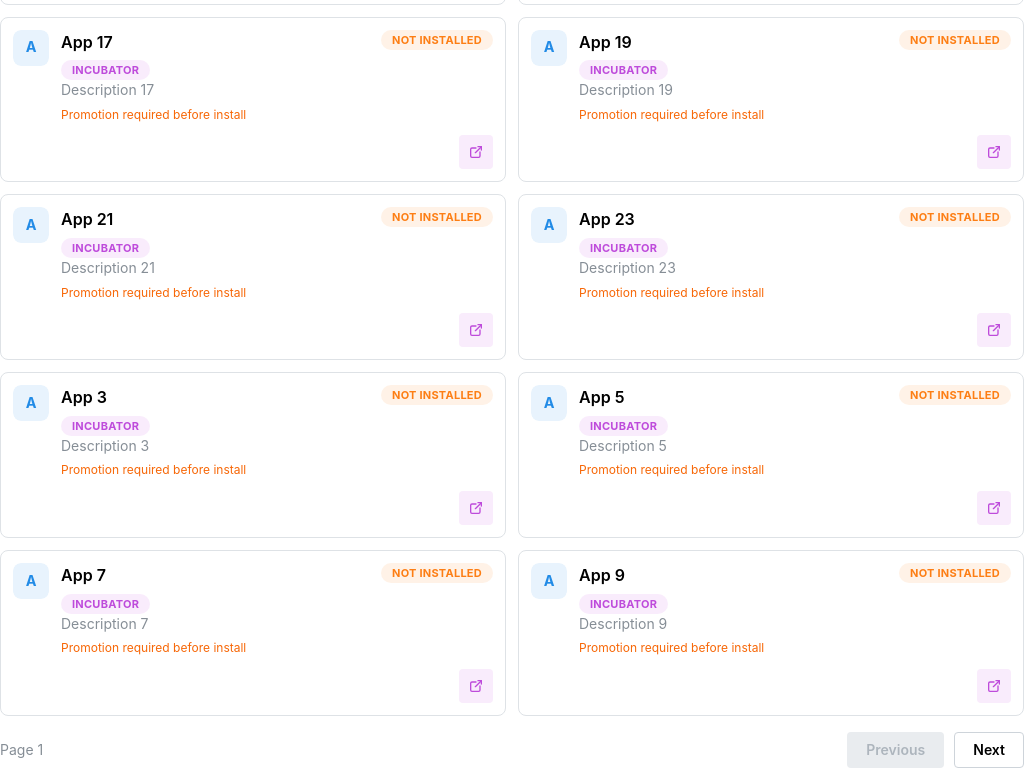
Test: supports pagination for catalog results
The image size is (1024, 768).
(page scrolled)
Click the button "Next": (989, 750) [954, 732, 1023, 767]
(page scrolled)
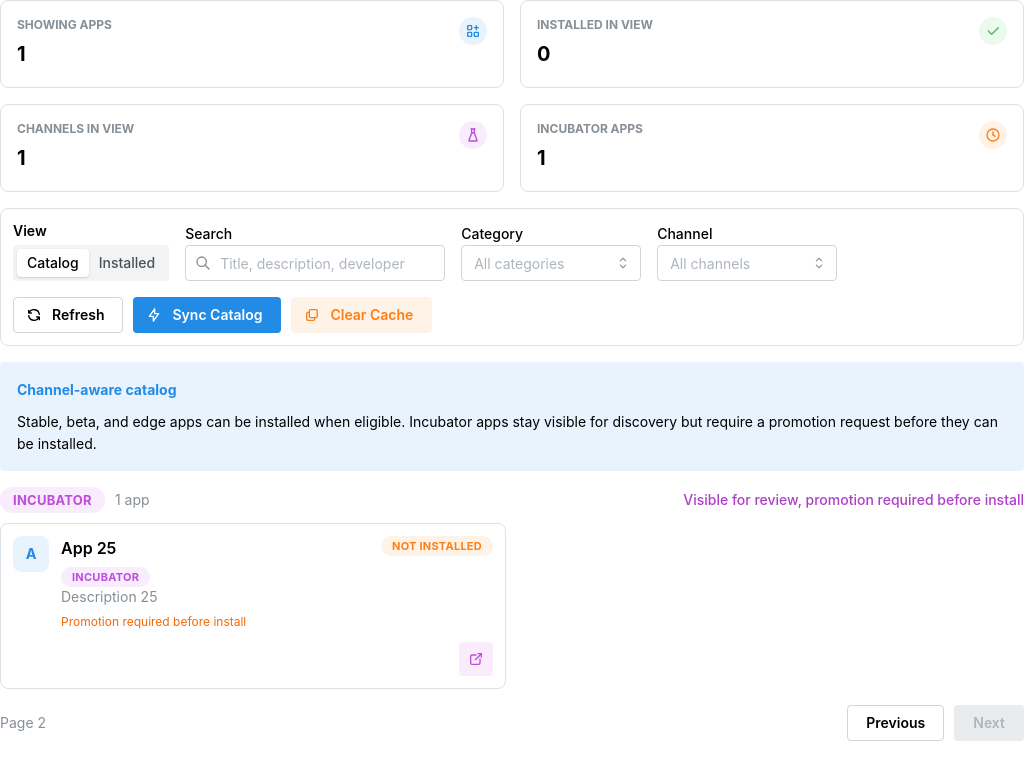
Expected: the text "App 25" is shown, [61, 536, 116, 561]
